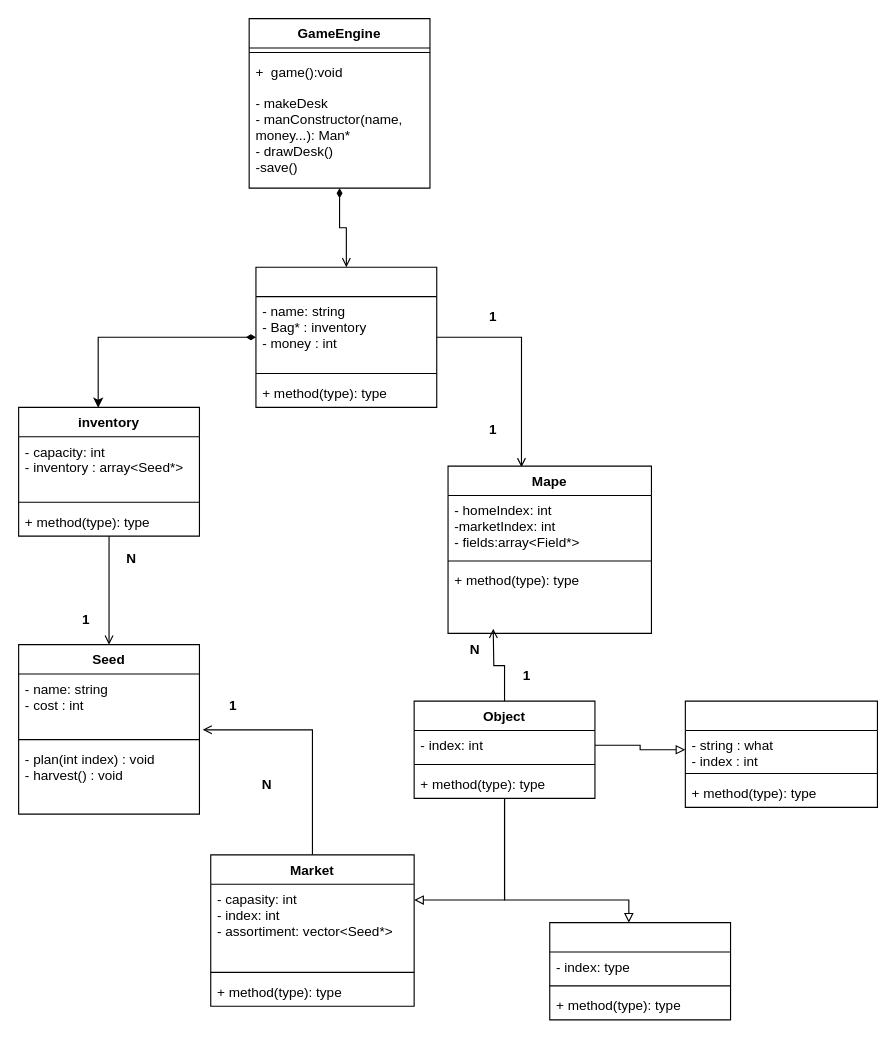
Image size: 896x1038. Some labels were removed from this diagram. The box of each missing label's shape, as (x1, y1, x2, y2) in pixels:
Field: (684, 700, 877, 807)
Home: (549, 922, 731, 1020)
Man: (255, 266, 437, 407)
